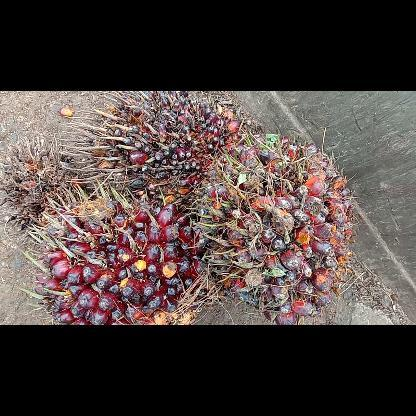TBS abnormal: (58, 90, 246, 206), (0, 133, 94, 251)
TBS masak: (196, 129, 358, 324), (27, 182, 209, 324)
